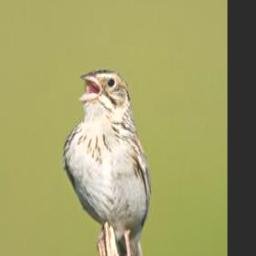Sparrow: (59, 67, 157, 256)
